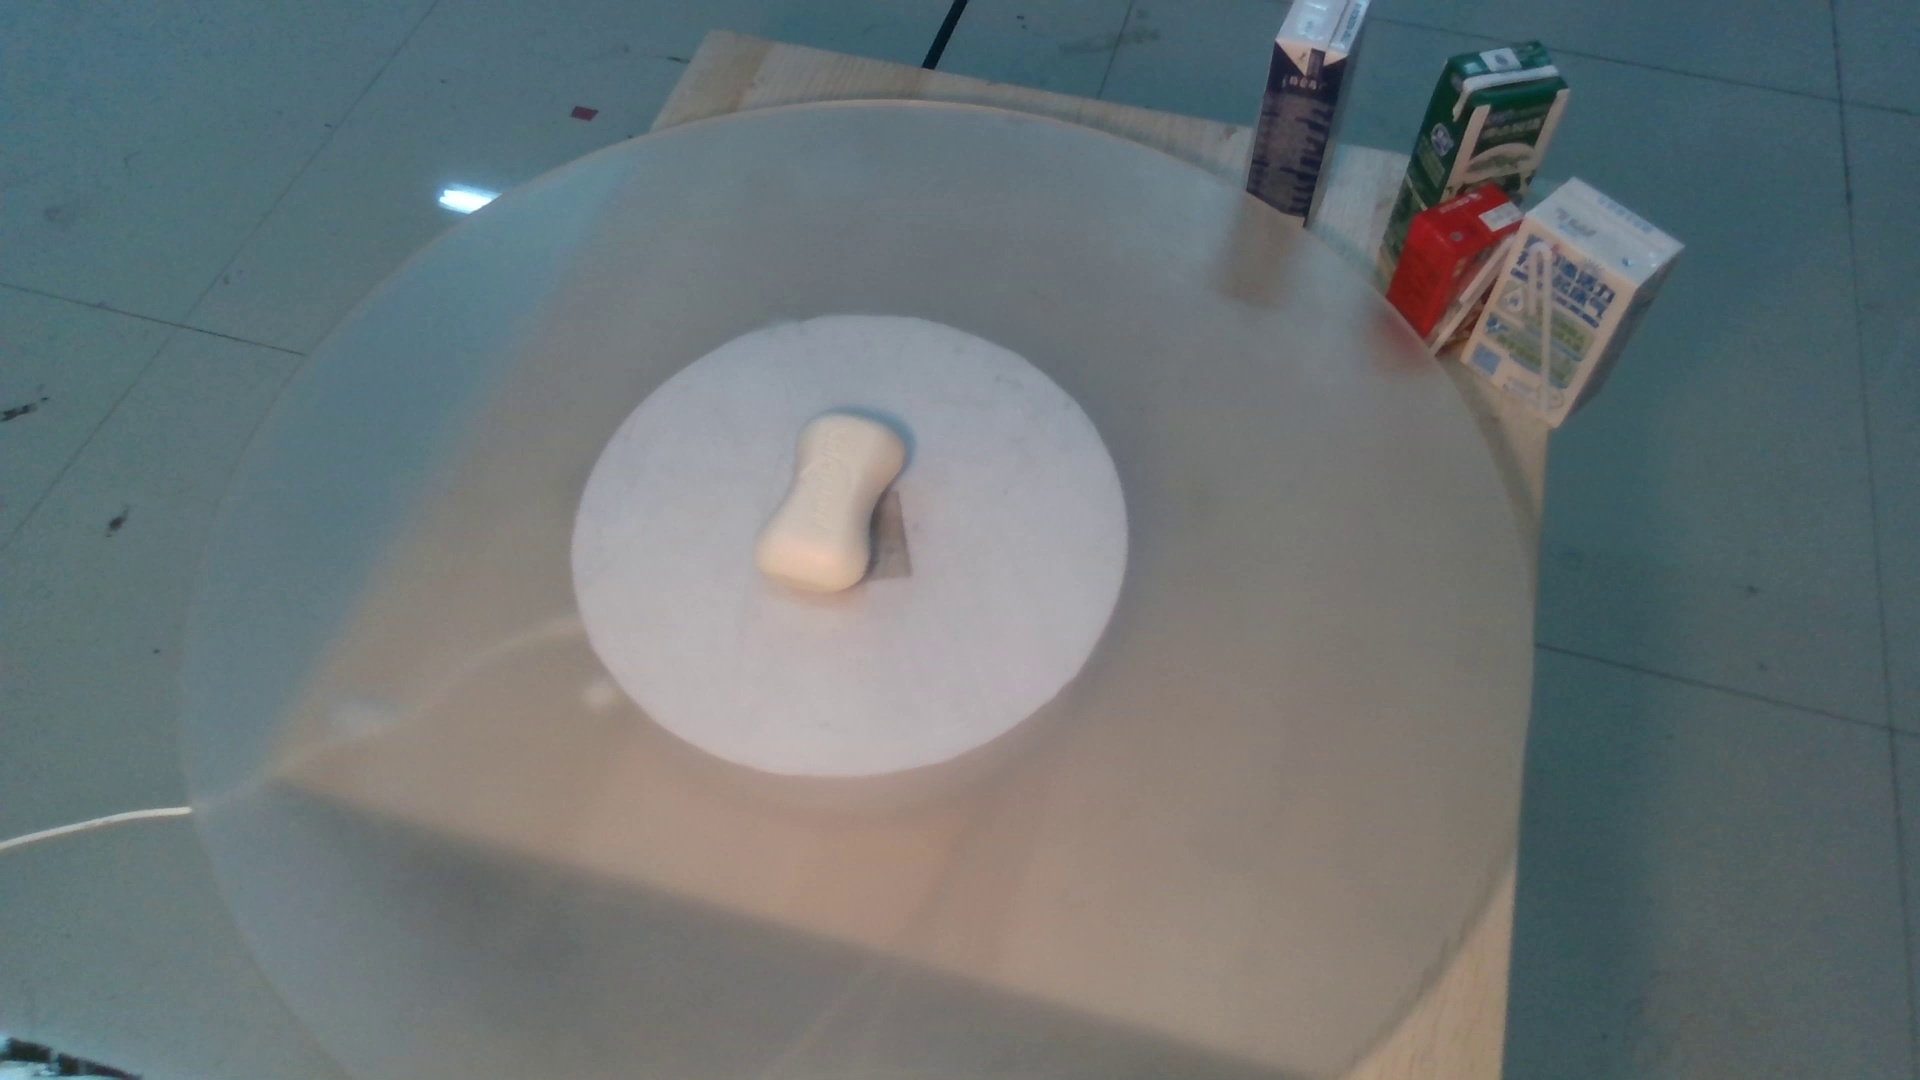CA003_1: (728, 400, 934, 593)
